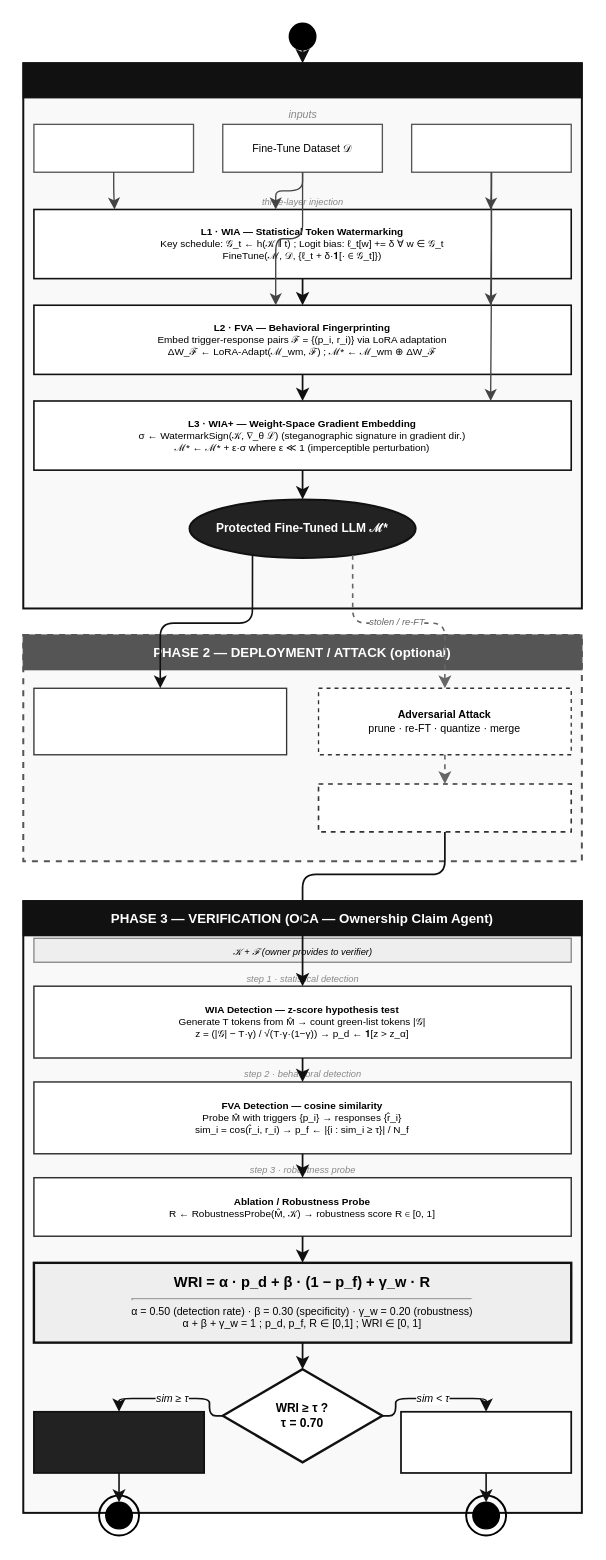
Image size: 606x1560. Some labels were removed from this diagram. Each missing label, with the centre of its shape:
"Base LLM (pre-trained)" goes at pixel 113 147.
"Claim Rejected" goes at pixel 486 1441.
"Commercial Deploy API endpoint / Model release" goes at pixel 160 721.
"Ownership Confirmed" goes at pixel 118 1441.
"PHASE 1 — INJECTION" goes at pixel 302 80.
"Secret Key 𝒦 + Fingerprints ℱ" goes at pixel 490 147.
"Suspect Model M̂ (adversary copy)" goes at pixel 444 807.
